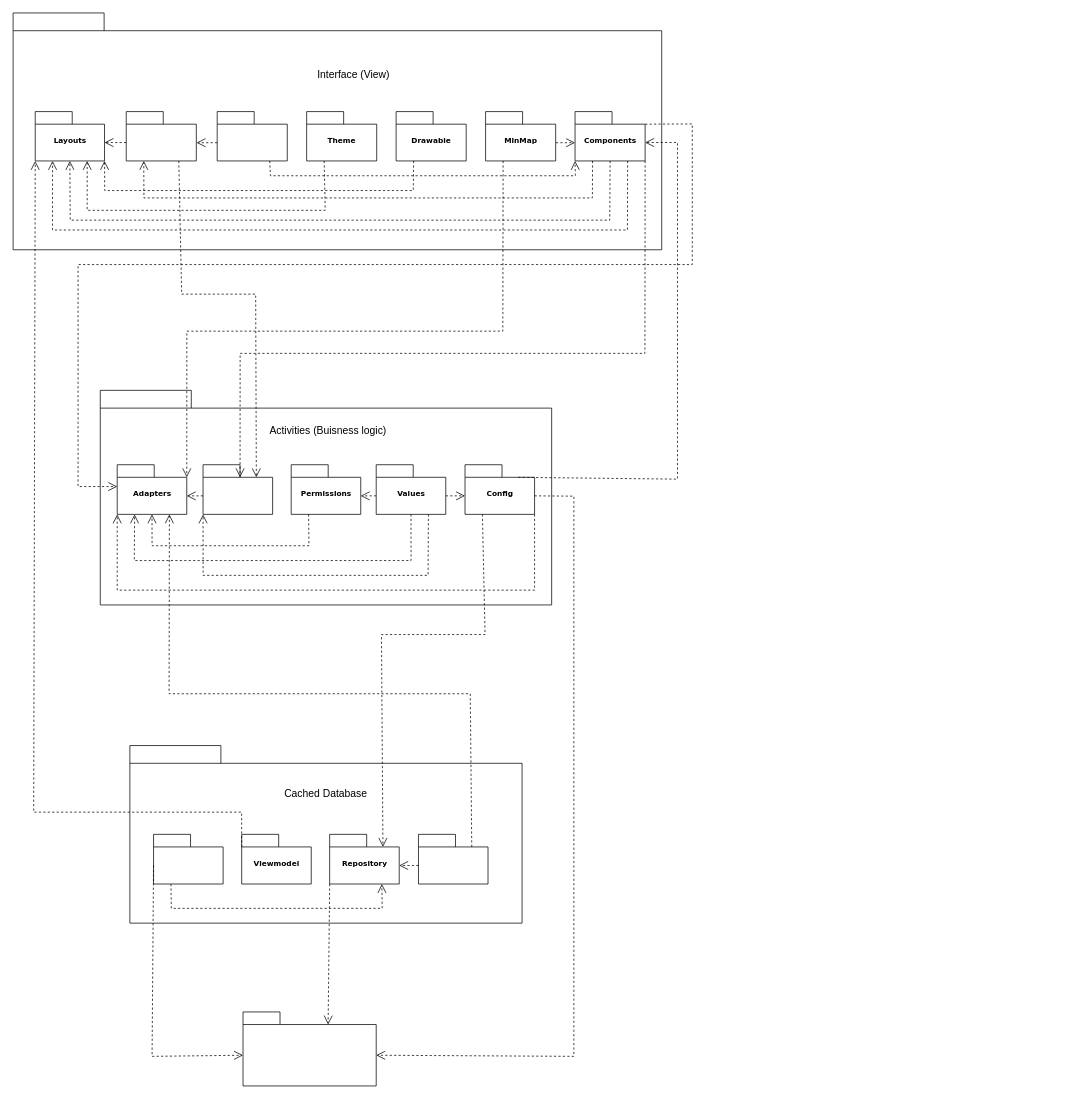
This 1080x1099 diagram has some shape labels left out. The shapes that lost their labels are listed below. From the top down, each one's centre as x and y in pixels, then its label:
(161,136): Menu
(251,136): Custom
(237,489): Tasks
(188,859): Datamodel
(453,859): DAO
(309,1048): Data NoSQL FireBase
